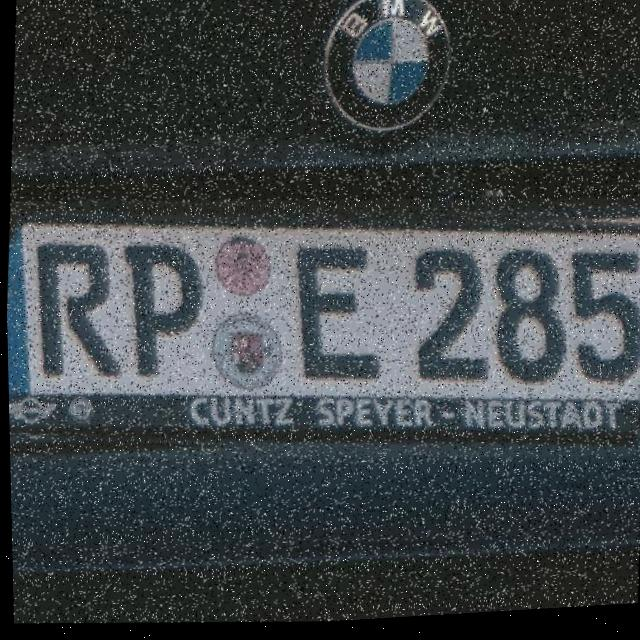LicensePlate: (4, 172, 640, 493)
